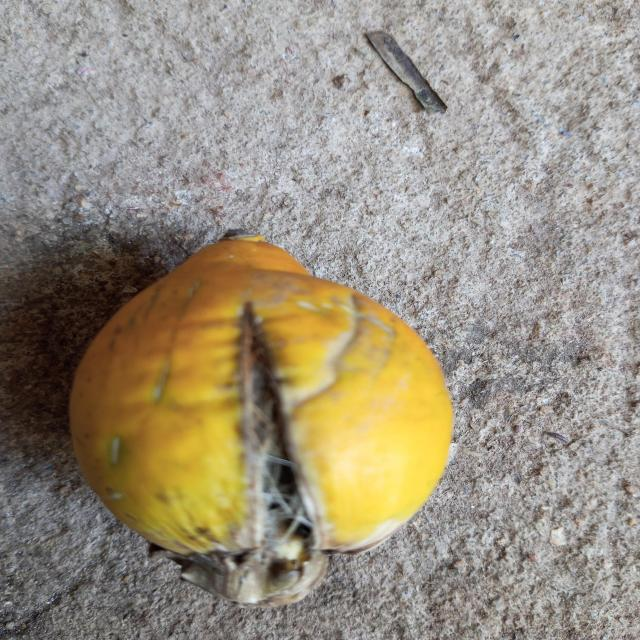damaged: (70, 234, 452, 606)
